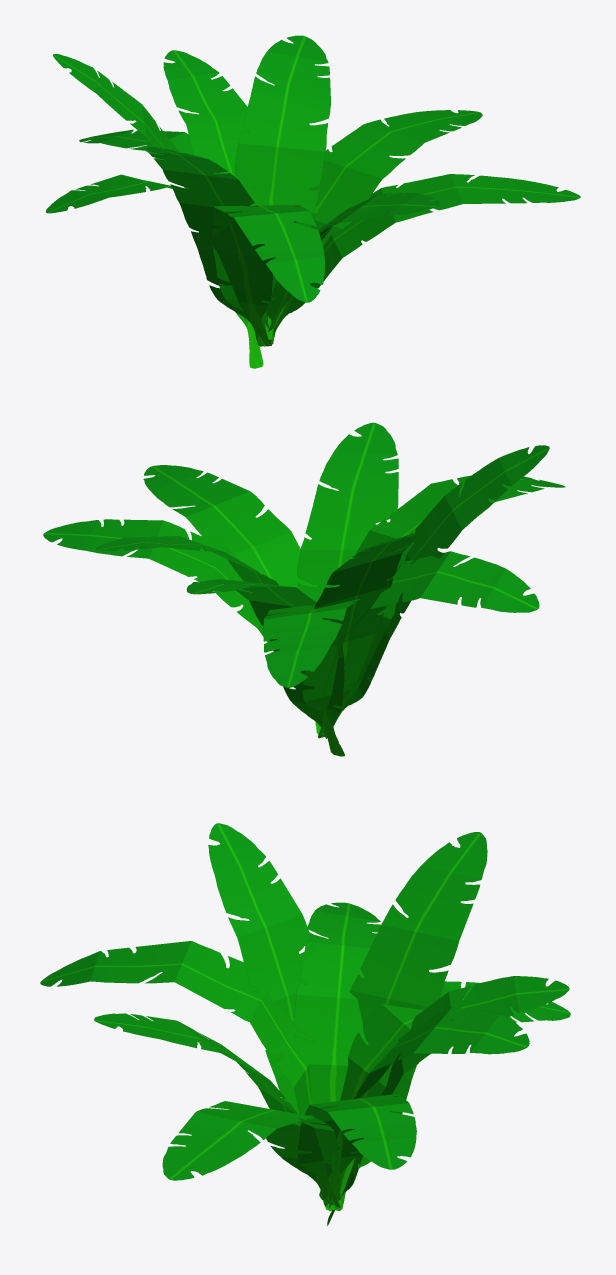
Rendered from plant_1.fbx.
3 renders of one model, top to bottom at view 1: azimuth 30°, elevation 25°; view 2: azimuth 150°, elevation 25°; view 3: azimuth 270°, elevation 25°, orthographic. The views are drawn at different scales.
Visible parts, largest first — view 1: leaf.008; view 2: leaf.008; view 3: leaf.008.
Part boxes in pixels (x1=…): leaf.008: x1=46, y1=35, x2=580, y2=368; leaf.008: x1=43, y1=422, x2=565, y2=756; leaf.008: x1=40, y1=823, x2=570, y2=1225.
Bounding box in the file's own units: 141 × 152 × 86.58.
Materials: 1 (1 with a texture image).
